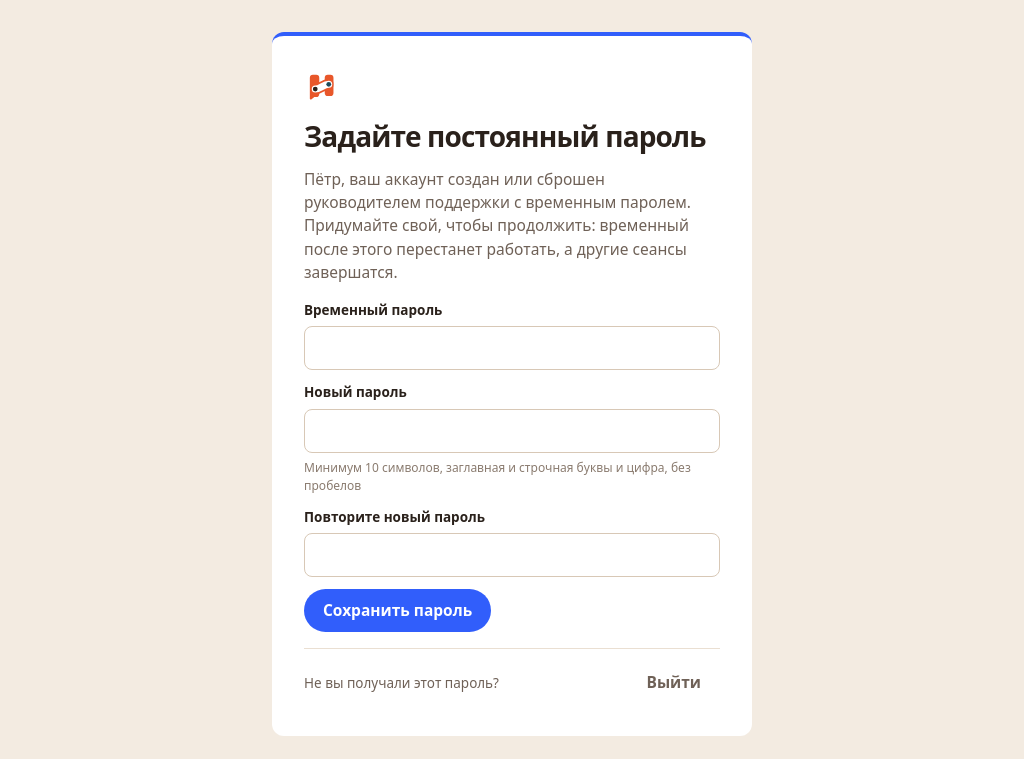
Test: forced password change › lets the user out: logout stays available
The image size is (1024, 759).
Click the button "Выйти": {"x": 674, "y": 683} [628,661,720,704]
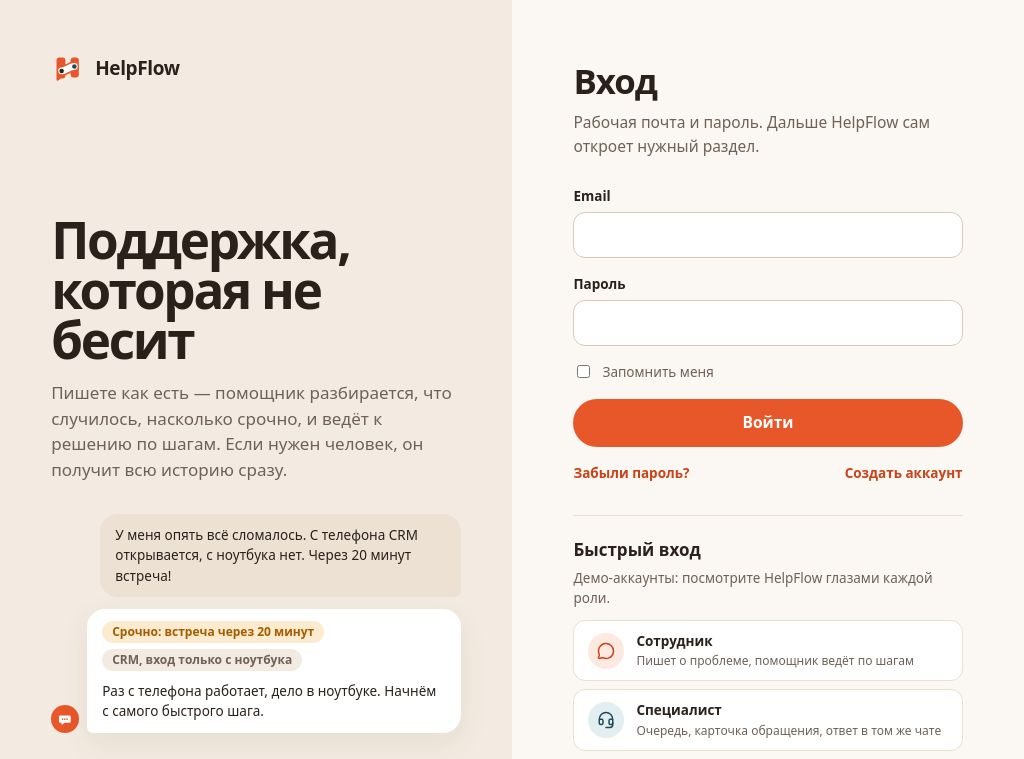
Check: the heading "Вход" is shown, box [573,57,657,104]
